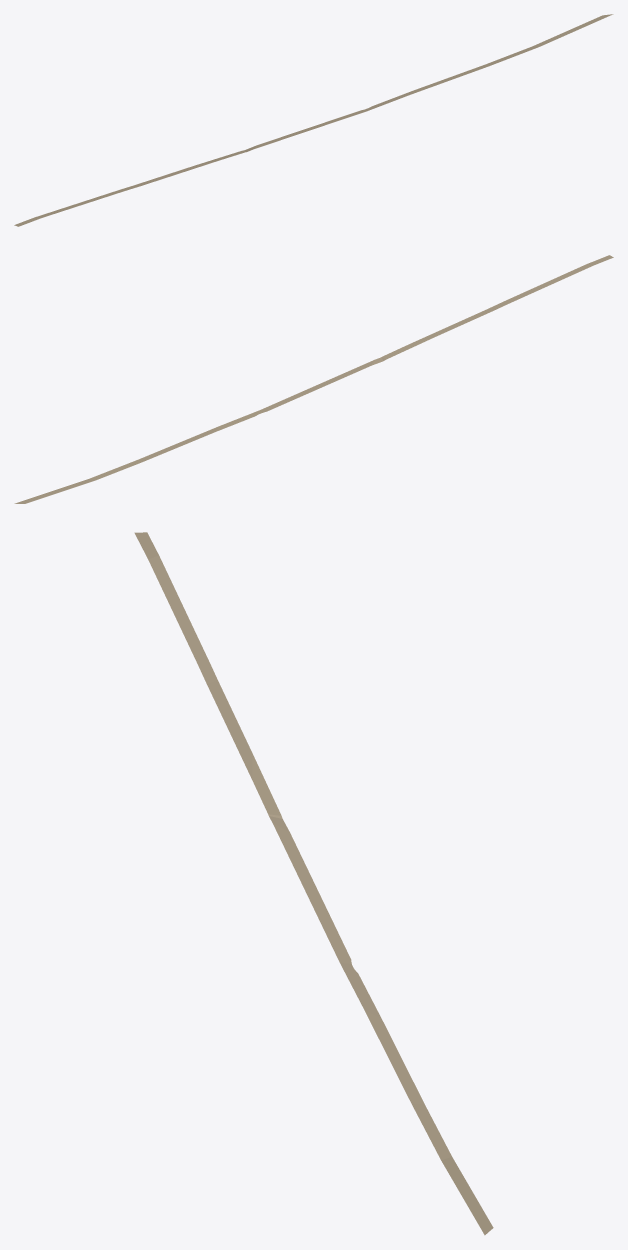
File: farm_20_11_track.glb
3 views of the same model, one above another, from view 1: azimuth 30°, elevation 25°; view 2: azimuth 210°, elevation 25°; view 3: azimuth 270°, elevation 25° (orthographic). The views are drawn at different scales.
Parts seen in each view (by area): view 1: geometry_0; view 2: geometry_0; view 3: geometry_0.
Boxes of the visible parts, box(x1,y1,x2,y2) form: geometry_0: box(14, 14, 613, 226); geometry_0: box(14, 255, 613, 503); geometry_0: box(134, 532, 493, 1235).
Size of the model in its own units: 392 by 12.32 by 89.14.
